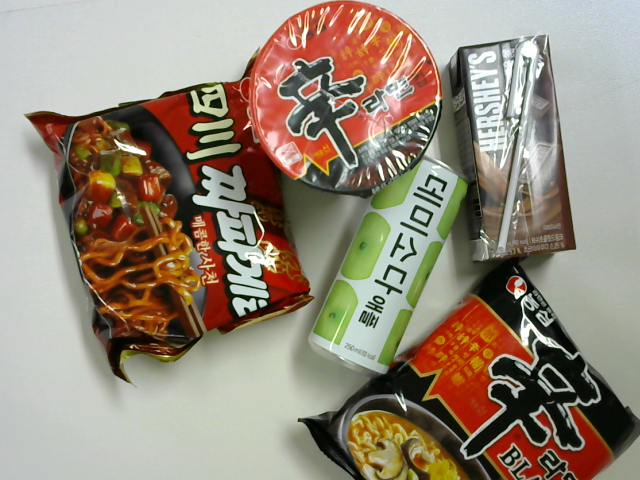Demisoda_Apple_Can_250ml: (317, 152, 463, 378)
Hush_Choco_Drink: (451, 30, 577, 266)
Sichuan_Chapaghetti: (23, 78, 309, 386)
Sinramen_Black: (313, 258, 639, 480)
Sinramen_small: (245, 6, 435, 192)
